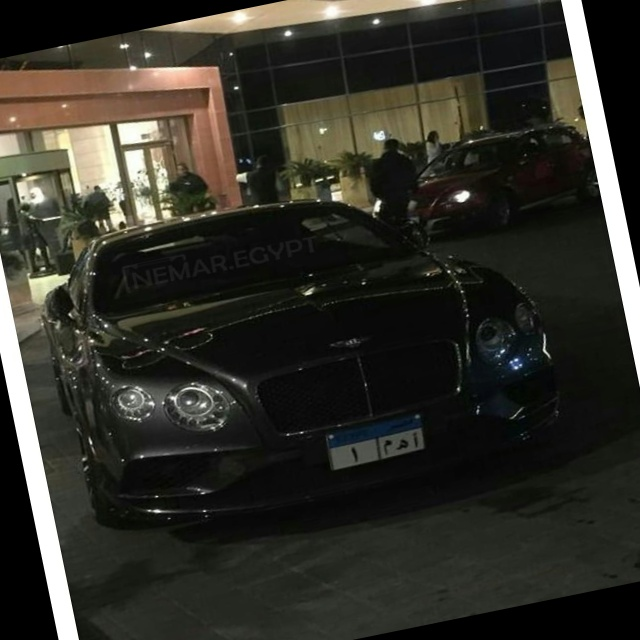License Plate: (322, 412, 431, 474)
